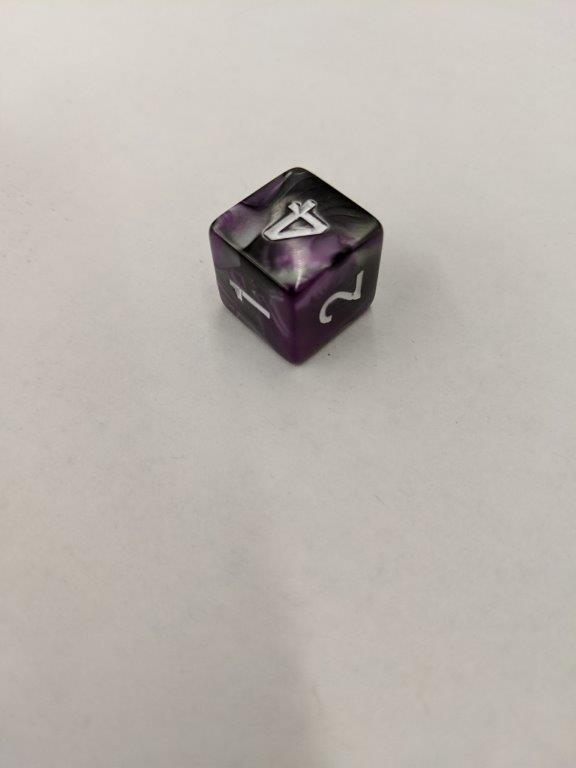d6-4: (208, 163, 382, 366)
